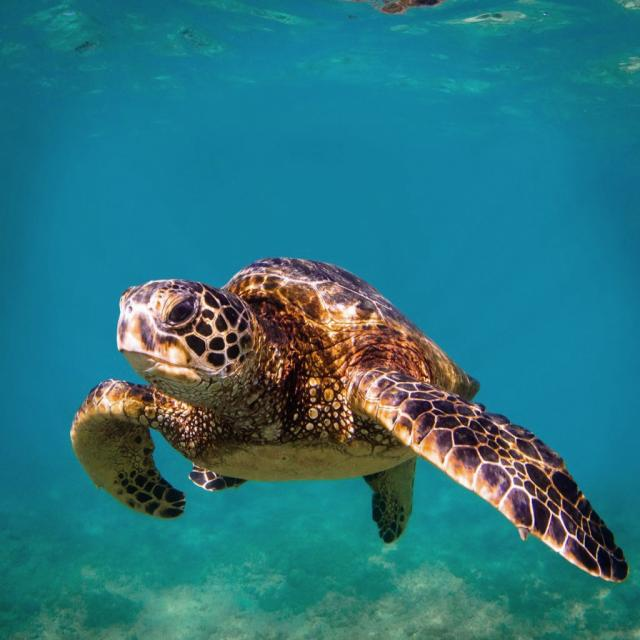turtle: (72, 258, 629, 581)
